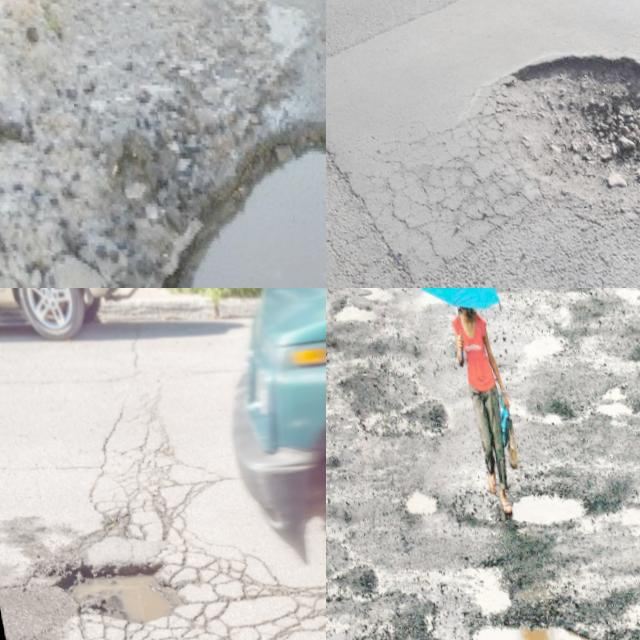Potholes: (416, 0, 640, 288), (104, 28, 326, 288), (13, 500, 220, 640), (326, 328, 451, 457), (533, 326, 640, 473), (326, 501, 438, 640), (426, 558, 590, 640), (370, 450, 450, 548), (326, 288, 398, 332)
